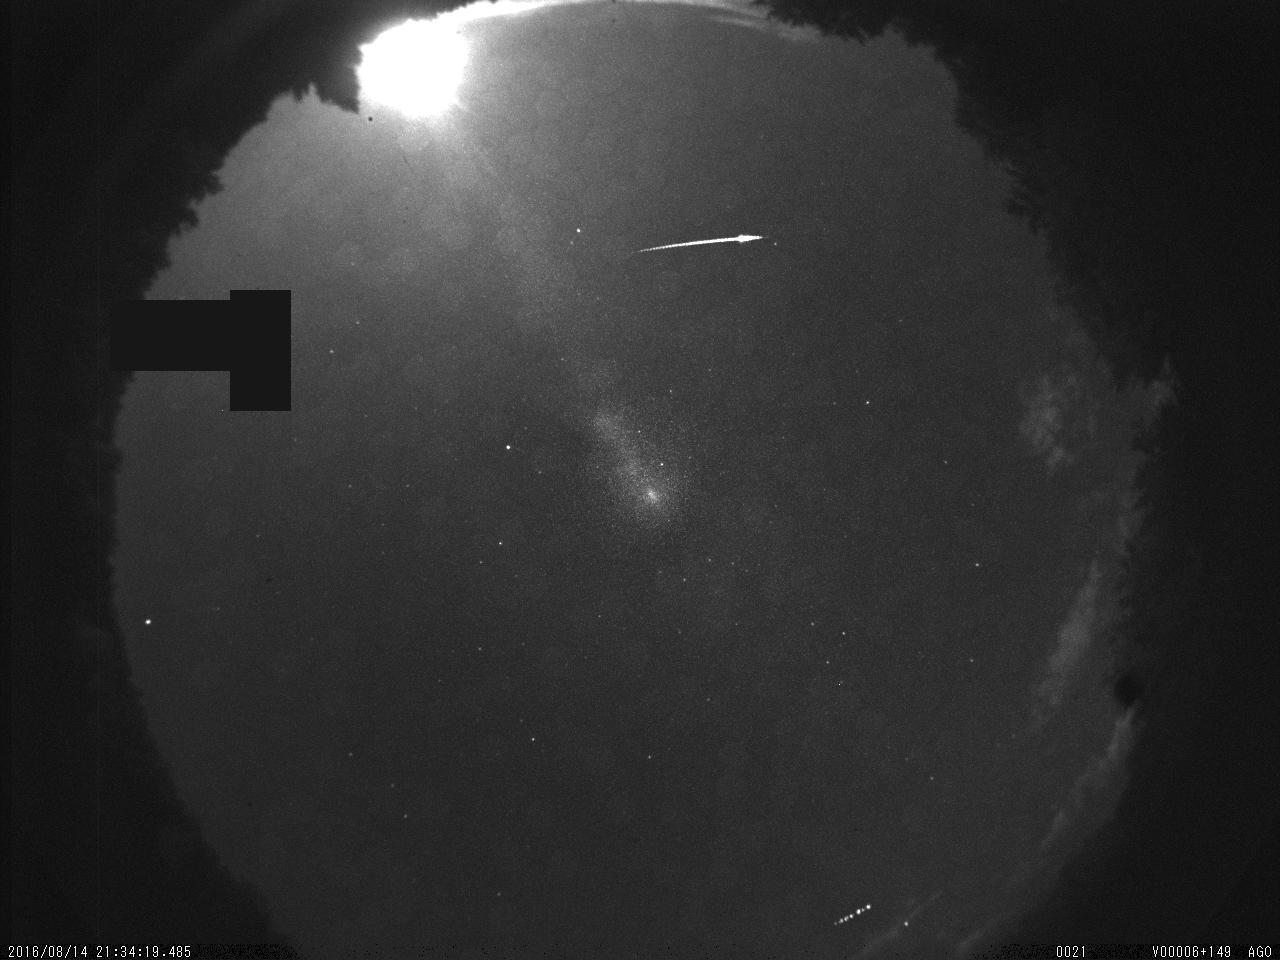meteor: (624, 228, 781, 264)
